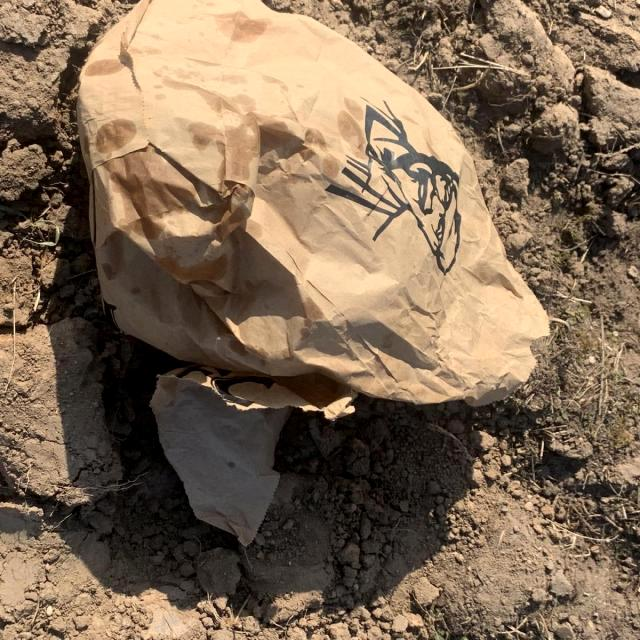Paper: (65, 1, 555, 544)
